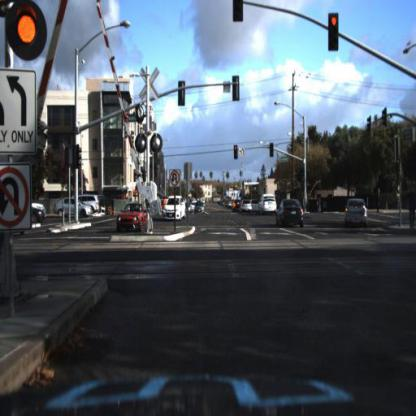car: (273, 192, 307, 235), (342, 190, 373, 237), (115, 200, 155, 235), (52, 197, 95, 224), (161, 194, 191, 226), (258, 193, 279, 221), (24, 207, 47, 226), (261, 194, 279, 215), (31, 210, 47, 232), (238, 195, 254, 217), (193, 198, 207, 216), (32, 201, 50, 214), (232, 197, 243, 215), (239, 197, 252, 212), (232, 198, 240, 216)
pedestrian: (406, 183, 416, 238), (375, 185, 385, 218)
trafficLight: (328, 13, 339, 52), (232, 138, 243, 164), (269, 141, 276, 159)
trafficLight-Green: (299, 164, 307, 184)
trafficLight-Red: (1, 1, 70, 67), (324, 9, 345, 58)
